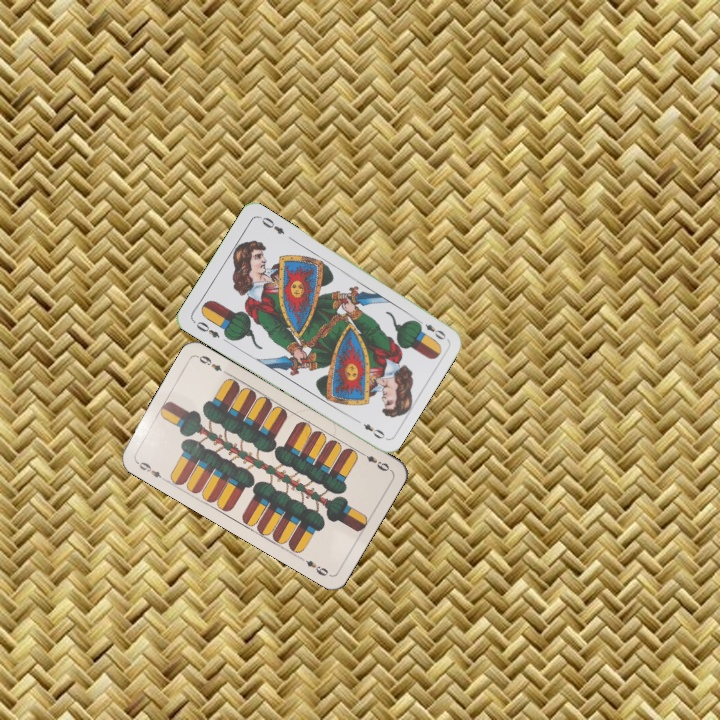E9: (132, 457, 169, 484), (357, 448, 392, 474)
EO: (412, 315, 449, 342), (189, 316, 222, 340)
